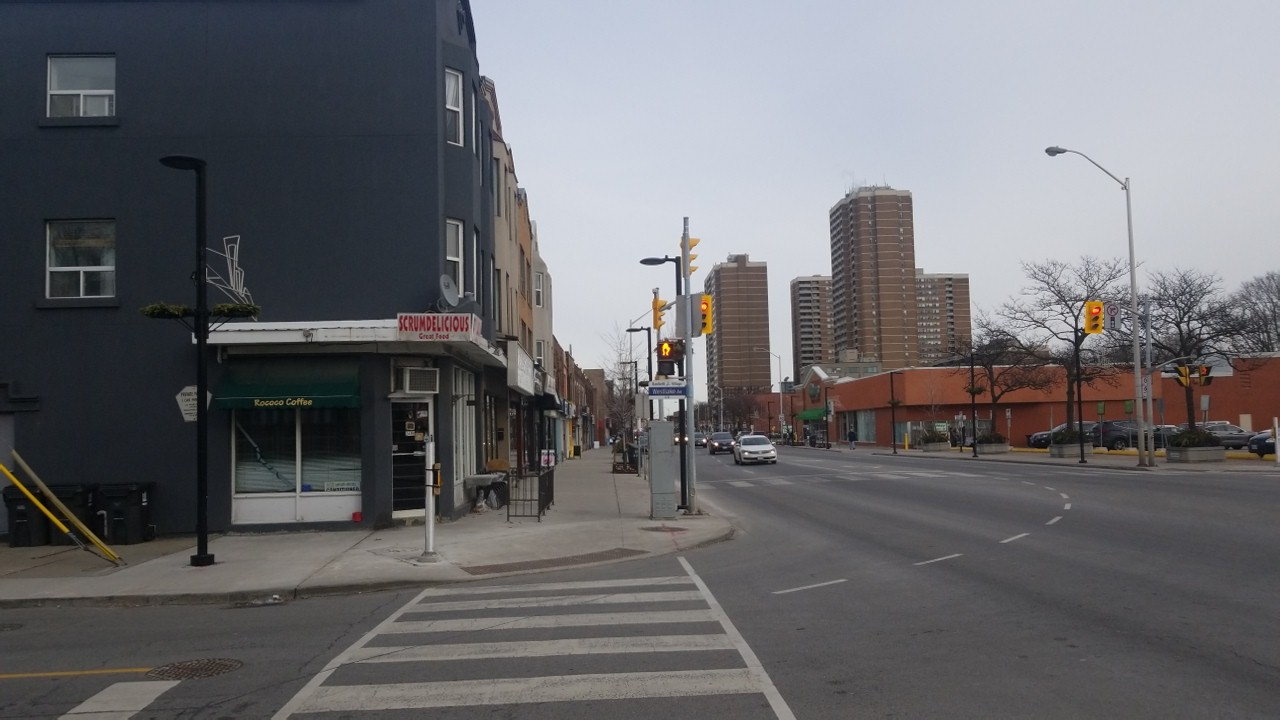light: (655, 340, 674, 377)
